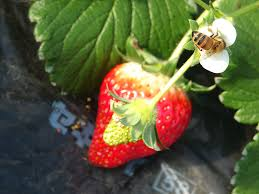ripe: (85, 60, 189, 176)
unripe: (102, 101, 156, 155)
